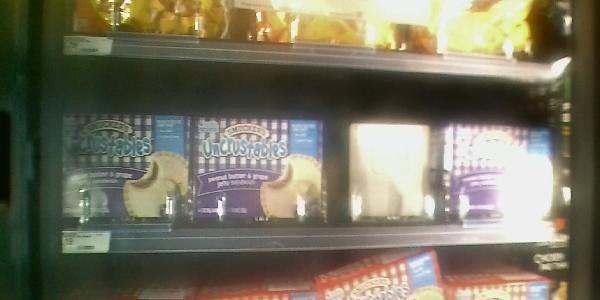icecream: (58, 110, 194, 231), (193, 110, 330, 227), (439, 117, 559, 231)
